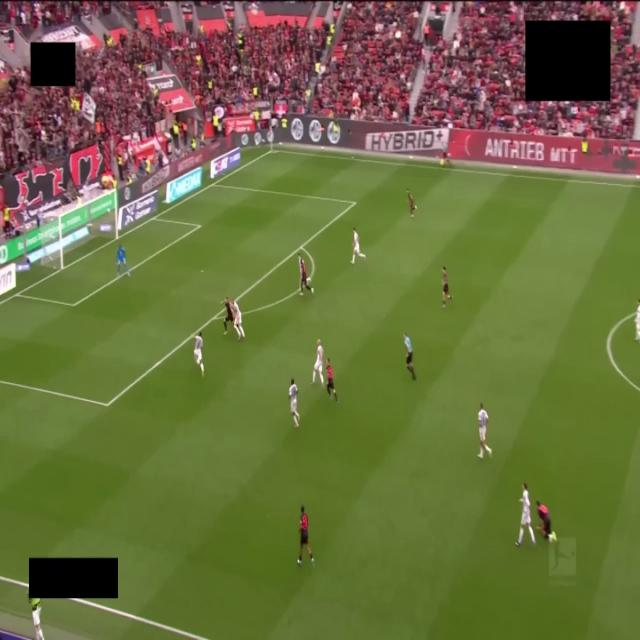player: (516, 483, 535, 545), (298, 505, 314, 567), (536, 502, 556, 542), (478, 403, 491, 458), (298, 254, 313, 295), (29, 598, 43, 639), (231, 299, 244, 340), (289, 378, 299, 427), (312, 340, 323, 384), (352, 228, 365, 263), (194, 332, 204, 376), (327, 359, 337, 402), (442, 267, 452, 308), (117, 245, 130, 276), (224, 297, 233, 335), (407, 189, 416, 217), (636, 300, 639, 342)
referee: (404, 333, 415, 380)
